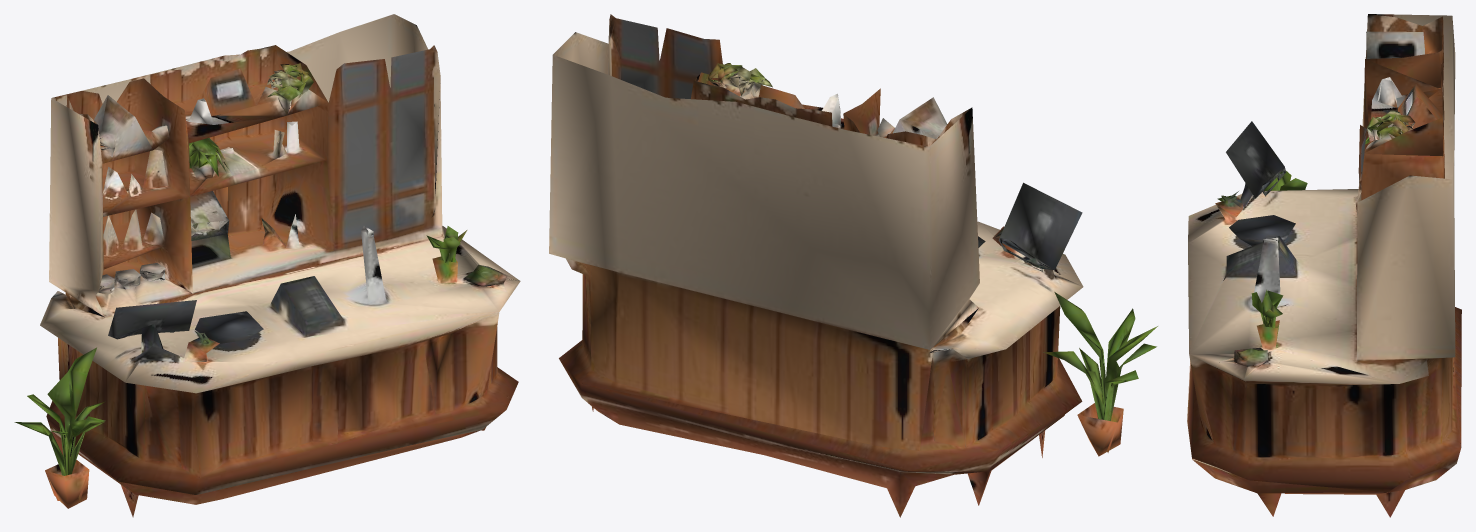
Rendered from register-counter.glb.
The picture shows the model from 3 angles, left to right: view 1: azimuth 30°, elevation 25°; view 2: azimuth 150°, elevation 25°; view 3: azimuth 270°, elevation 25°; orthographic projection. The views are drawn at different scales.
Parts seen in each view (by area): view 1: register_counter; view 2: register_counter; view 3: register_counter.
Part boxes in pixels (x1,y1,x2,y2): register_counter: (14,14,520,517); register_counter: (549,14,1157,517); register_counter: (1187,14,1461,517).
Bounding box in the file's own units: 2.4 × 1.69 × 1.21.
Materials: 1 (1 with a texture image).
